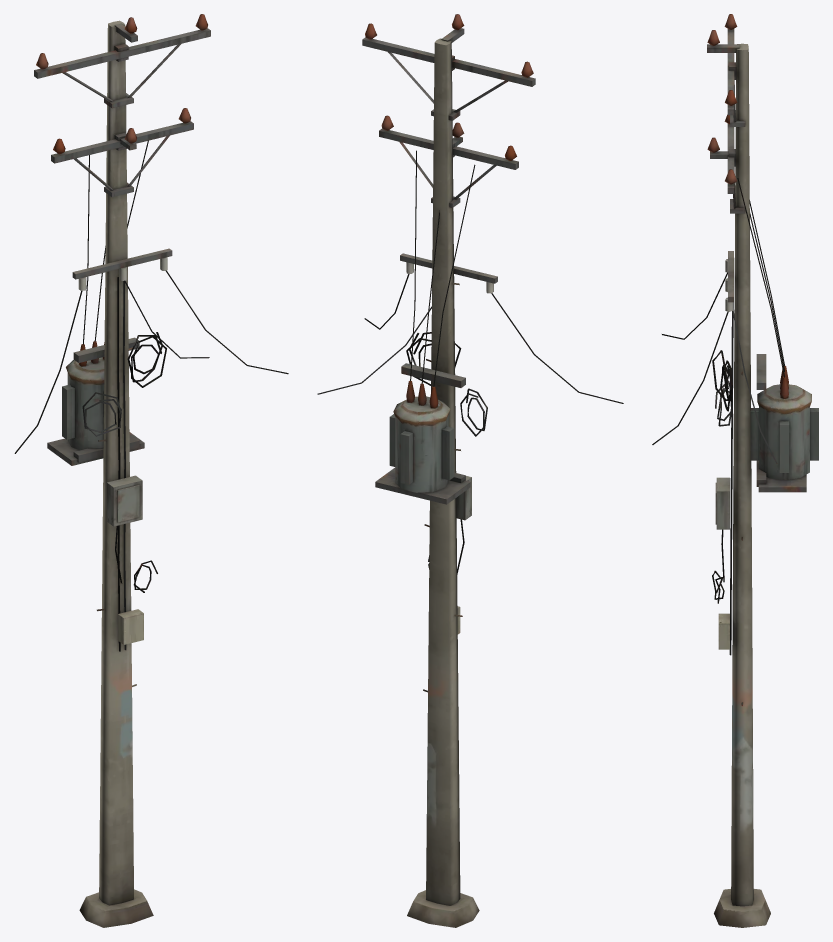
Rendered from electric_pole.glb.
3 renders of one model, left to right at view 1: azimuth 30°, elevation 25°; view 2: azimuth 150°, elevation 25°; view 3: azimuth 270°, elevation 25°, orthographic. The views are drawn at different scales.
Visible parts, largest first — view 1: body, transformer; view 2: body, transformer; view 3: body, transformer.
Part boxes in pixels (left/top/right/bottom): body: left=14, top=14, right=288, bottom=927; transformer: left=47, top=140, right=148, bottom=465; body: left=317, top=14, right=623, bottom=927; transformer: left=375, top=150, right=475, bottom=504; body: left=652, top=14, right=777, bottom=927; transformer: left=737, top=178, right=818, bottom=492.
Size of the model in its own units: 3.17 by 10.19 by 1.75.
Materials: 1 (1 with a texture image).
